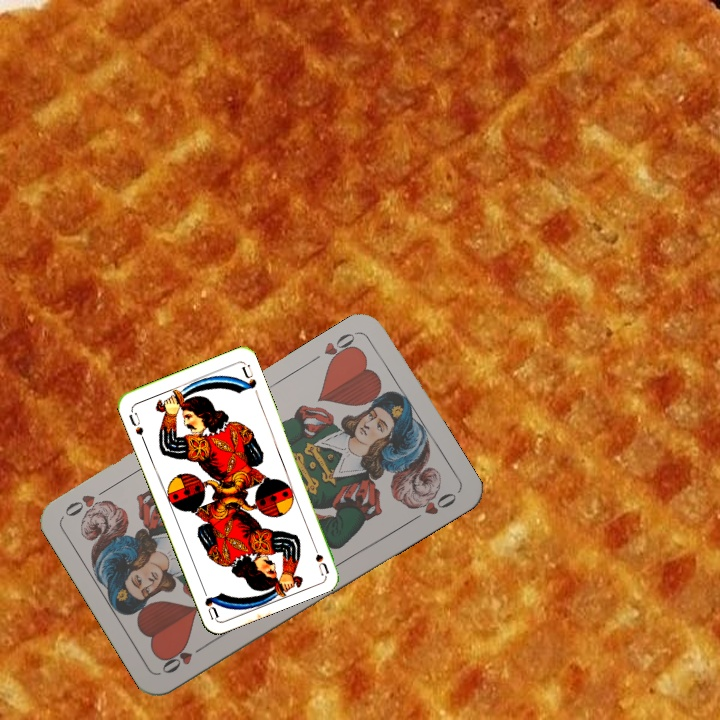HO: (158, 638, 211, 677), (320, 327, 361, 369)
SU: (307, 537, 331, 577), (125, 408, 148, 445)
